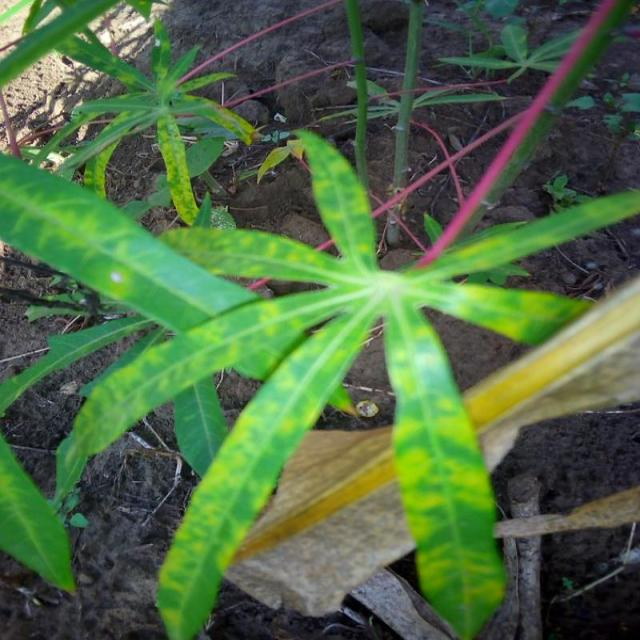cassava leaf: (2, 125, 637, 637)
